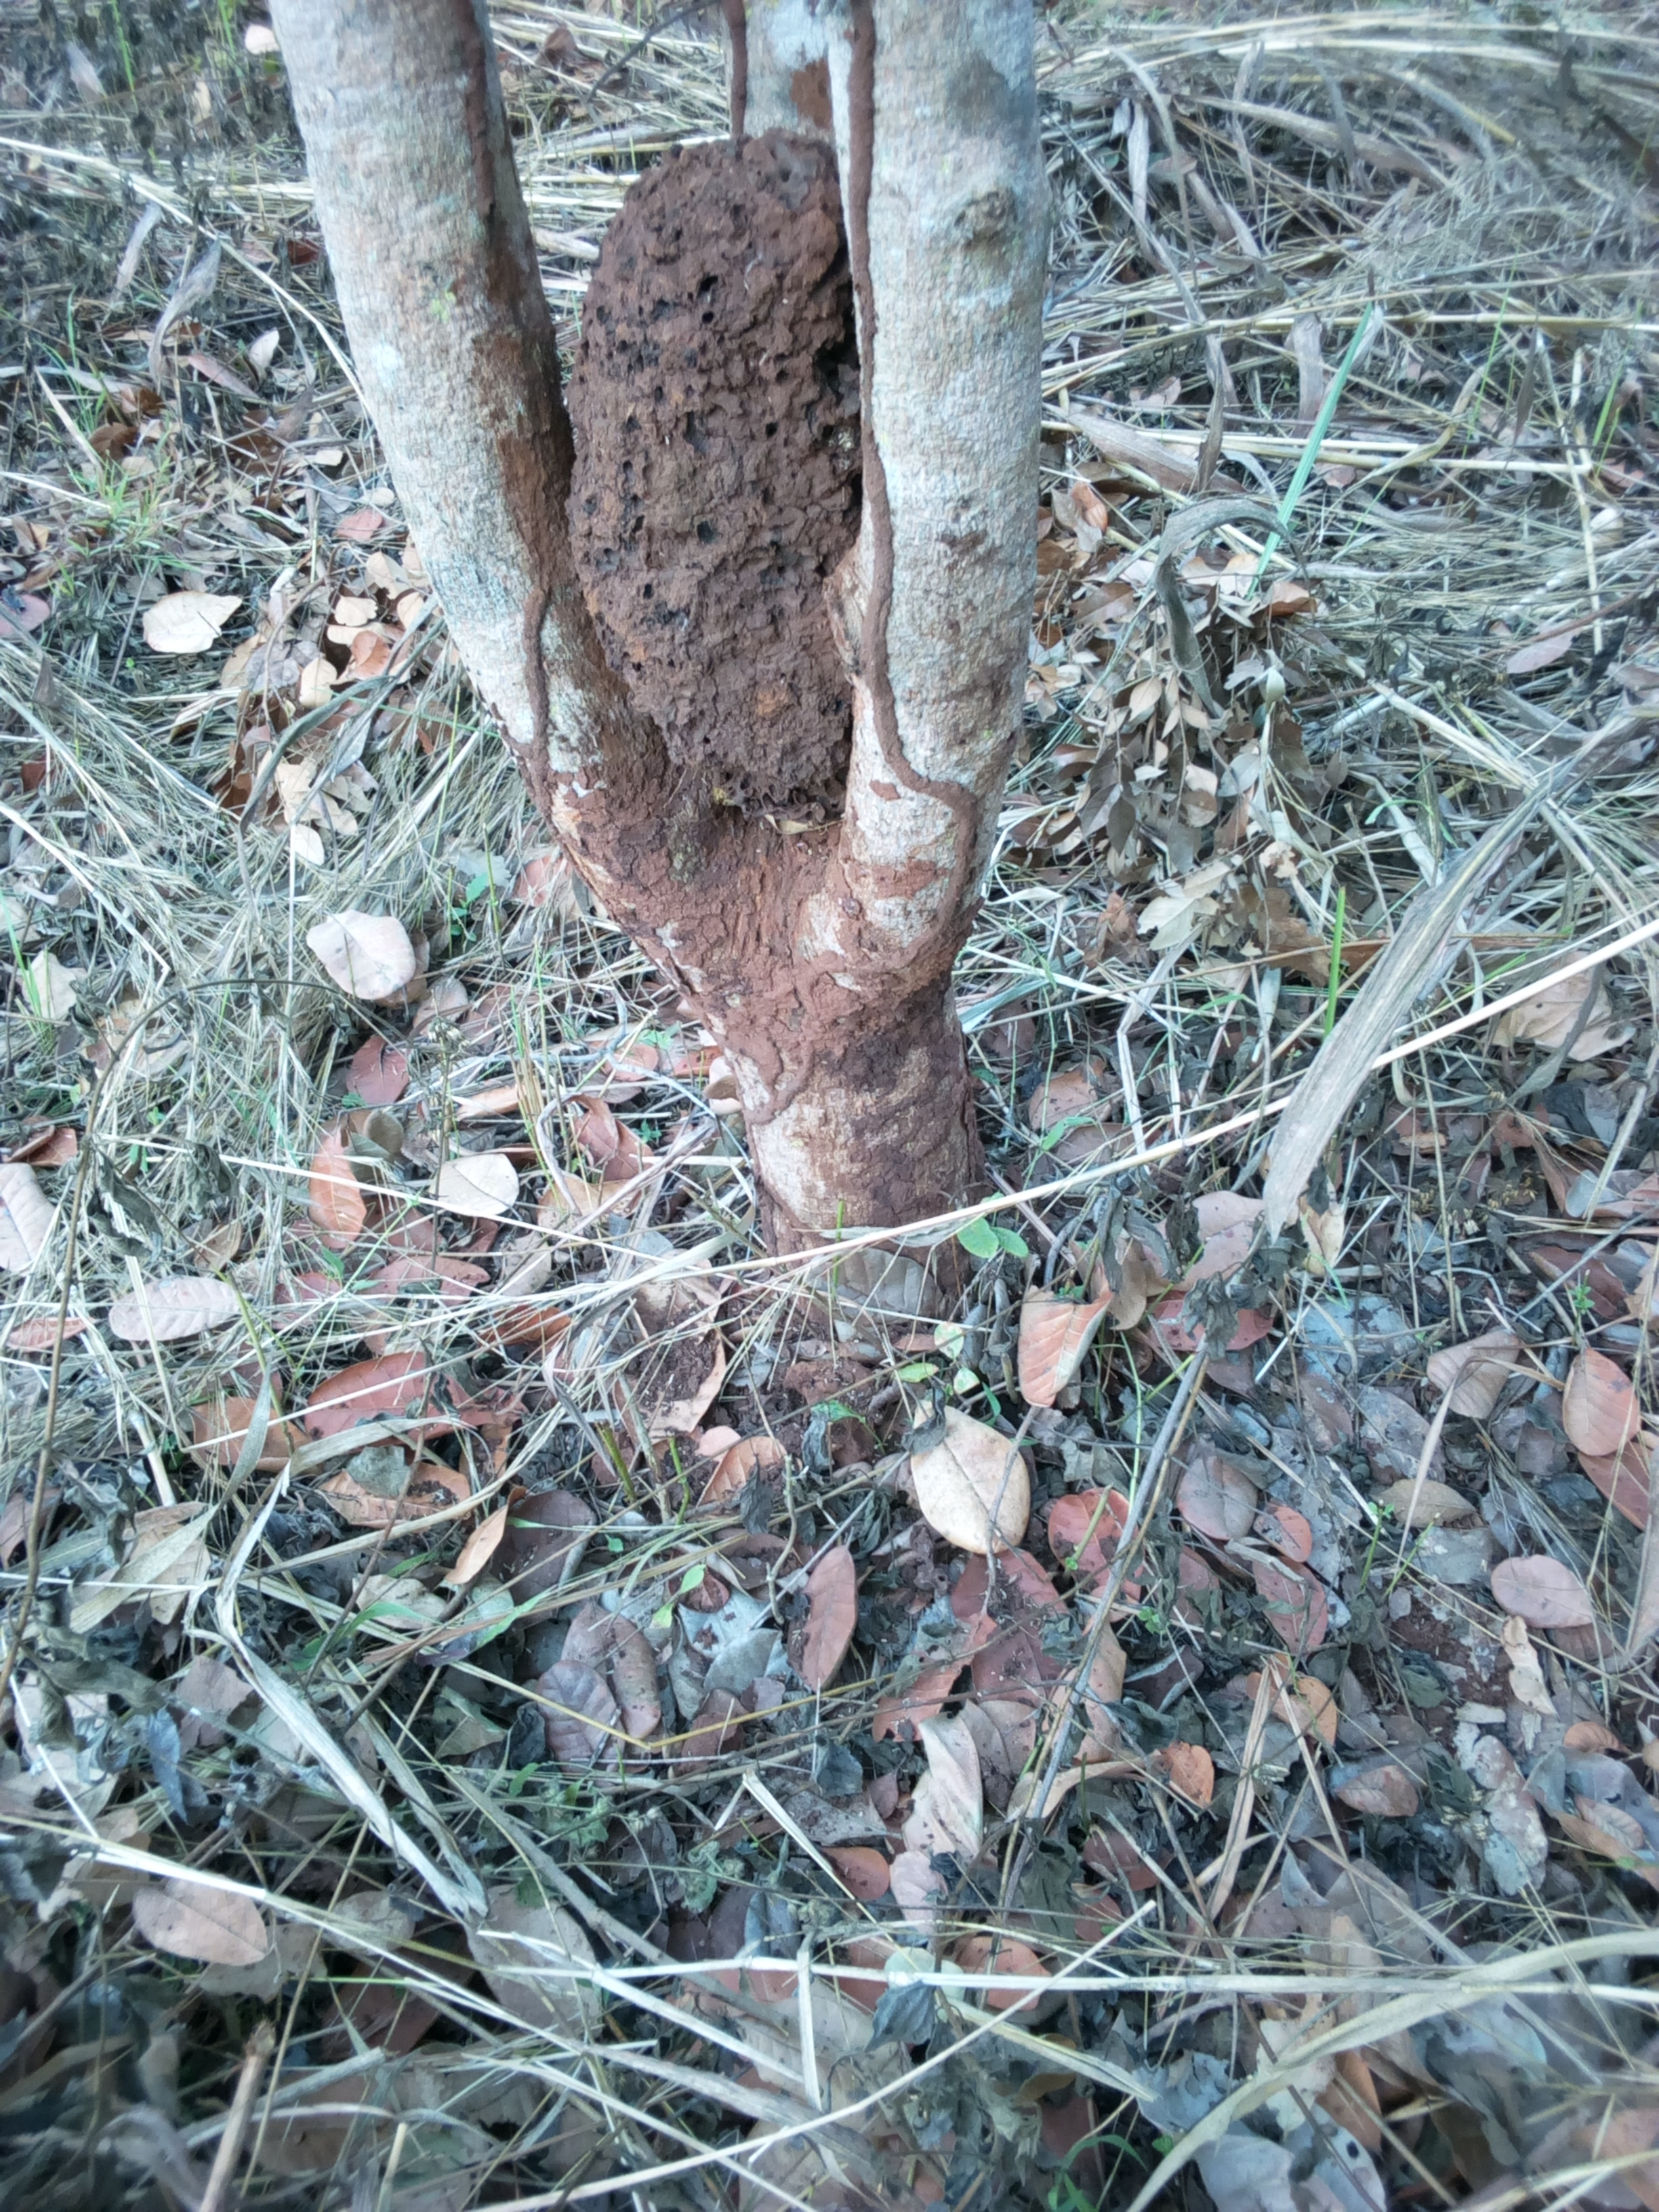Termites: (613, 157, 863, 822), (650, 819, 965, 1073), (484, 150, 561, 841)
